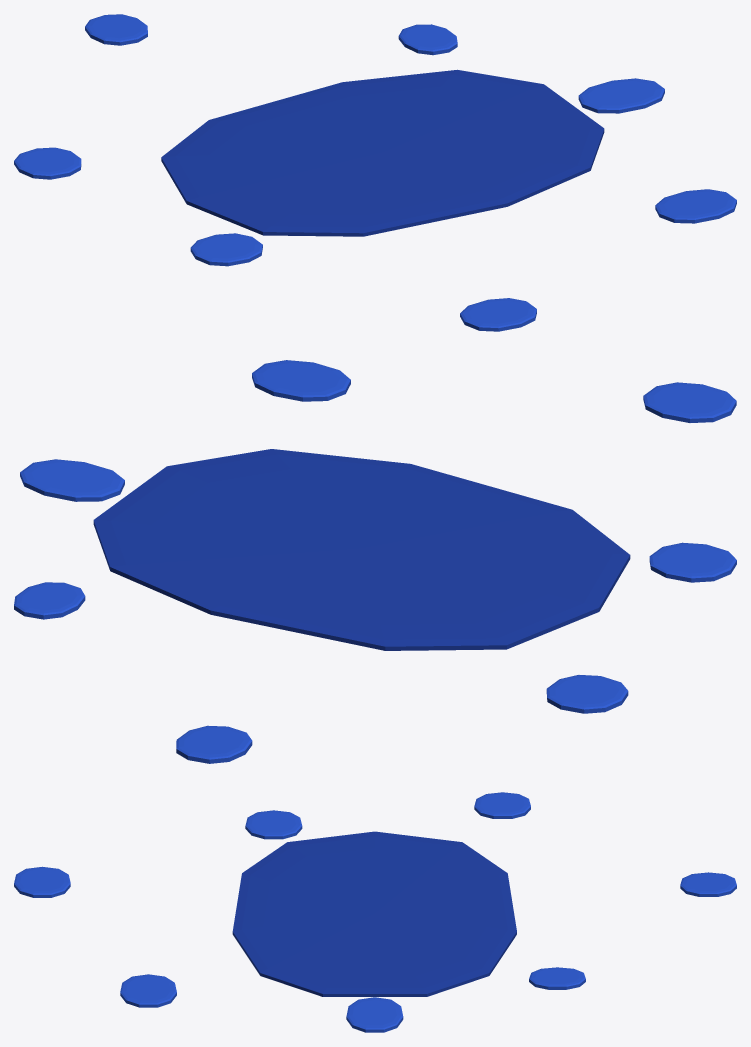
The model's file is s-blood.glb.
3 renders of one model, top to bottom at view 1: azimuth 30°, elevation 25°; view 2: azimuth 150°, elevation 25°; view 3: azimuth 270°, elevation 25°, orthographic. The views are drawn at different scales.
Parts seen in each view (by area): view 1: p; view 2: p; view 3: p.
Part boxes in pixels (bbox=[...]): p: bbox=[14, 14, 736, 331]; p: bbox=[14, 360, 736, 763]; p: bbox=[14, 792, 736, 1032].
Bounding box in the file's own units: 2.14 × 0.021 × 2.75.
